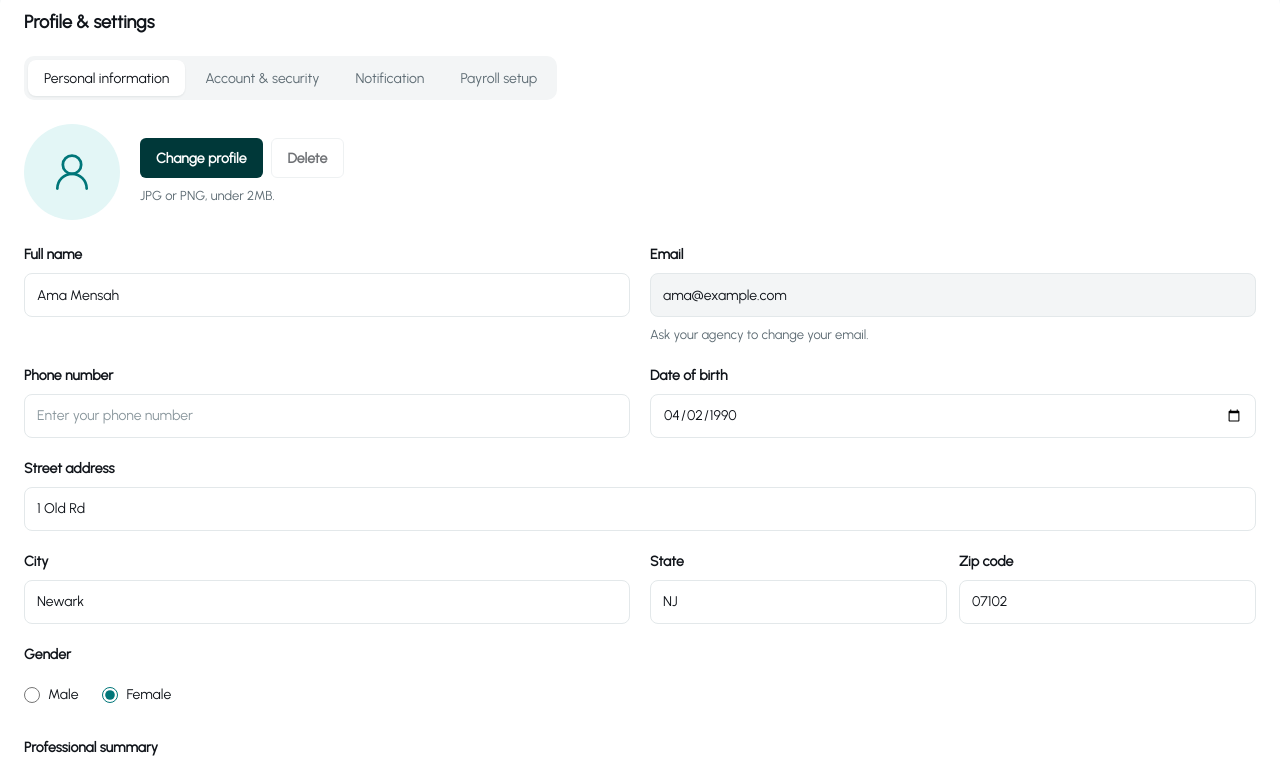
Test: user panel profile page › saves address, birth date, gender and summary, keeping the saved address shape
Later steps or results of the test are not shown.
Check: the radio button labelled "Female" is checked, box [102,686,118,702]
Check: the date field labelled "Date of birth" holds "1990-04-02", box [650,394,1256,438]
Step 1. Replace the text in the field labelled "Street address" with "22 New Ave " → (640, 508), box [24,486,1256,530]
(page scrolled)
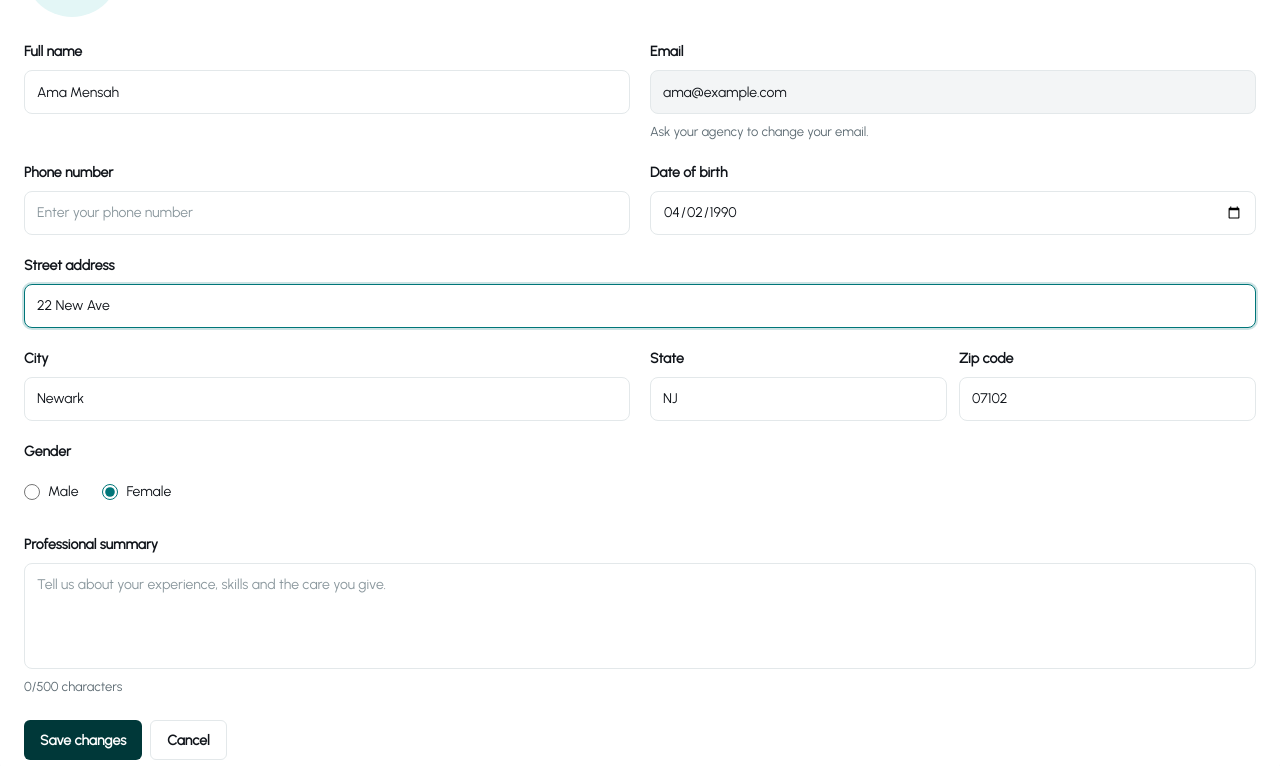
Step 2. Type "Five years in home care." into the text box labelled "Professional summary" → (640, 616), box [24,562,1256,668]
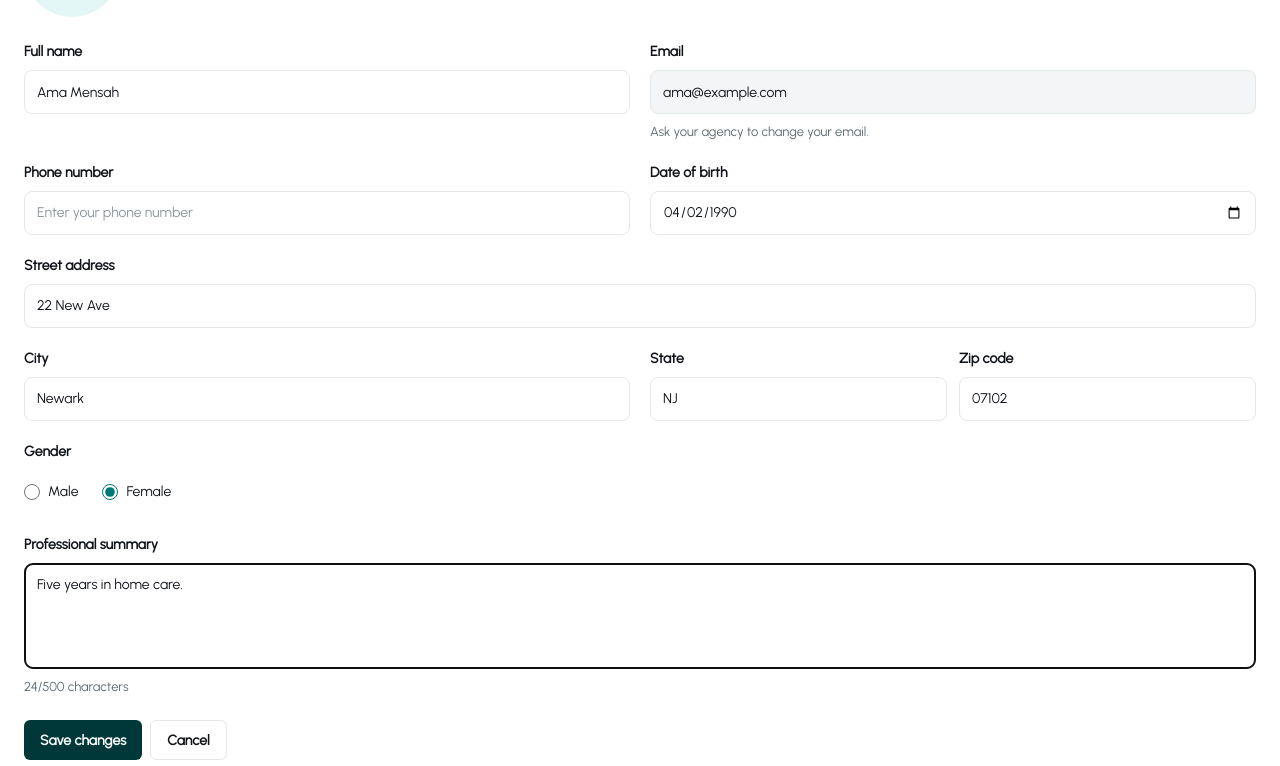
Check: the text "24/500 characters" is shown, box [24,678,128,694]
